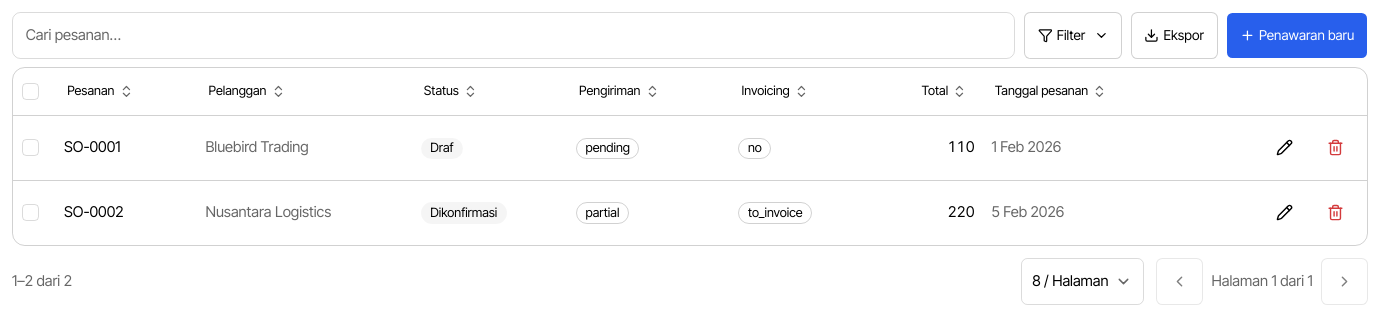
it: SaleOrdersSection › filters orders through the search box
The image size is (1378, 322).
Check: the link "SO-0001" is shown, box [64, 138, 121, 156]
Type "SO-0002" into the search field with placeholder "Cari pesanan…" at {"x": 514, "y": 35}, box [12, 12, 1015, 59]
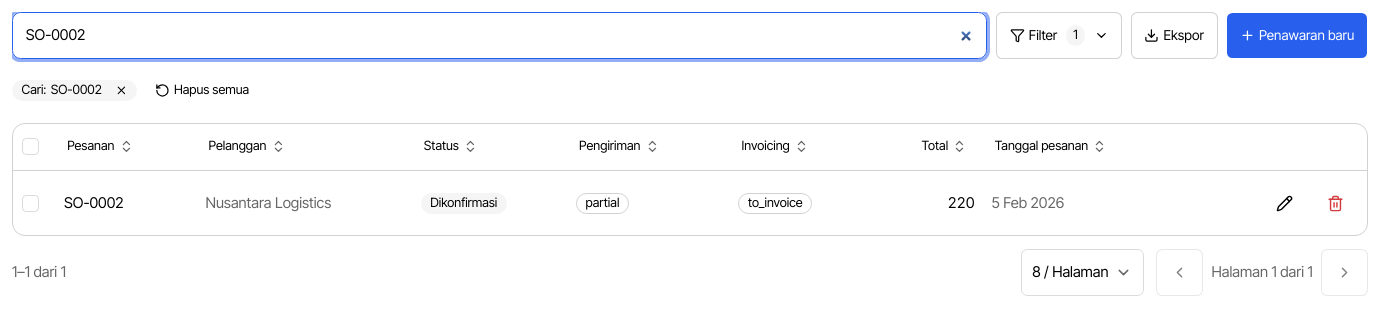
Check: the text "SO-0002" is shown, box [51, 82, 102, 99]
Check: the link "SO-0001" is gone
